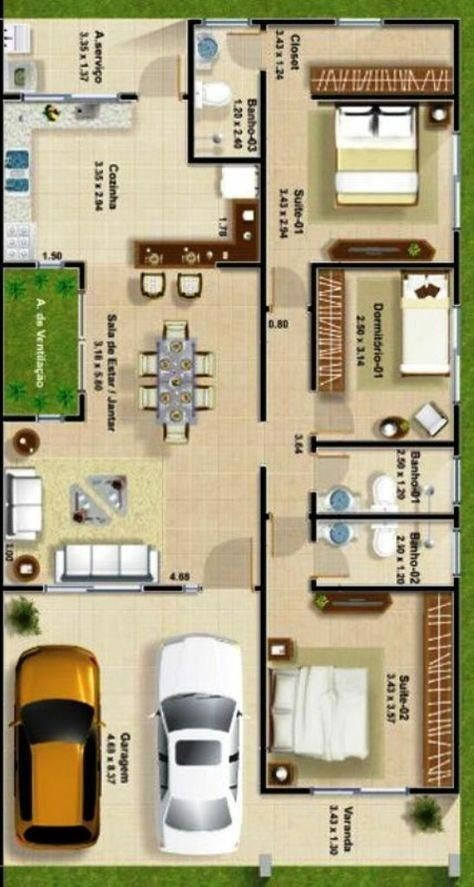door: (262, 586, 459, 794)
room: (259, 96, 459, 267), (260, 441, 461, 520), (260, 514, 461, 593), (188, 19, 266, 163)
window: (203, 18, 251, 26), (335, 18, 383, 26)
